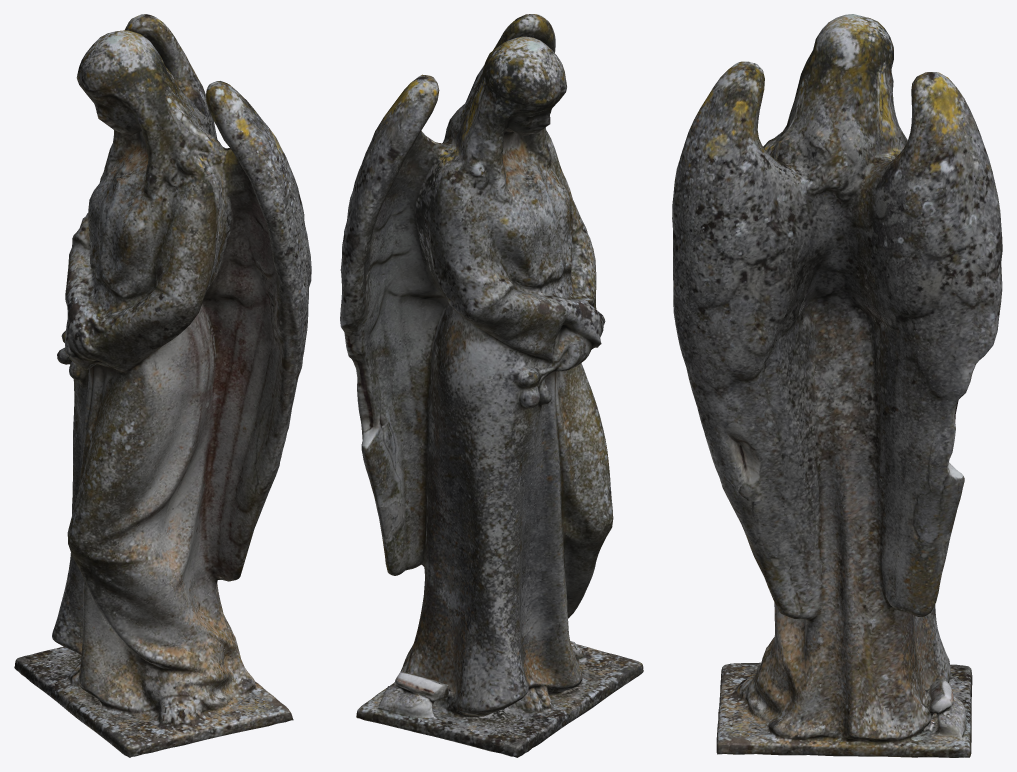
The model's file is engel_statue_scan_-_retopology.glb.
The picture shows the model from 3 angles, left to right: view 1: azimuth 30°, elevation 25°; view 2: azimuth 150°, elevation 25°; view 3: azimuth 270°, elevation 25°; orthographic projection. The views are drawn at different scales.
Parts seen in each view (by area): view 1: Retopo_Engel_C_0; view 2: Retopo_Engel_C_0; view 3: Retopo_Engel_C_0.
Boxes of the visible parts, left/top/right/bottom form: Retopo_Engel_C_0: left=14, top=14, right=311, bottom=757; Retopo_Engel_C_0: left=340, top=14, right=643, bottom=757; Retopo_Engel_C_0: left=672, top=14, right=1002, bottom=757.
Bounding box in the file's own units: 9.76 × 30.97 × 13.58.
Materials: 1 (1 with a texture image).
